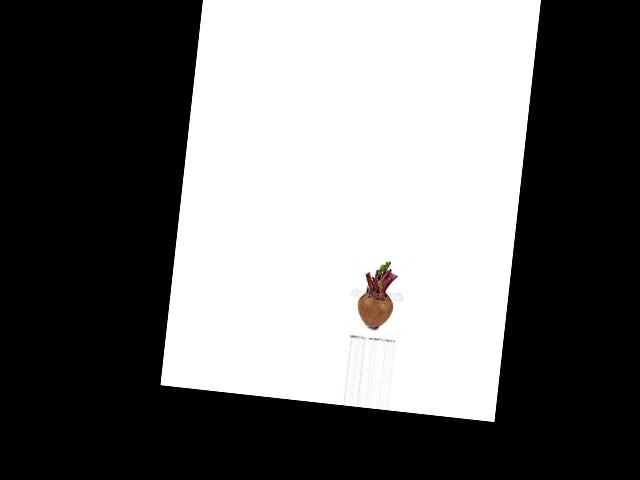beet: (354, 258, 398, 331)
